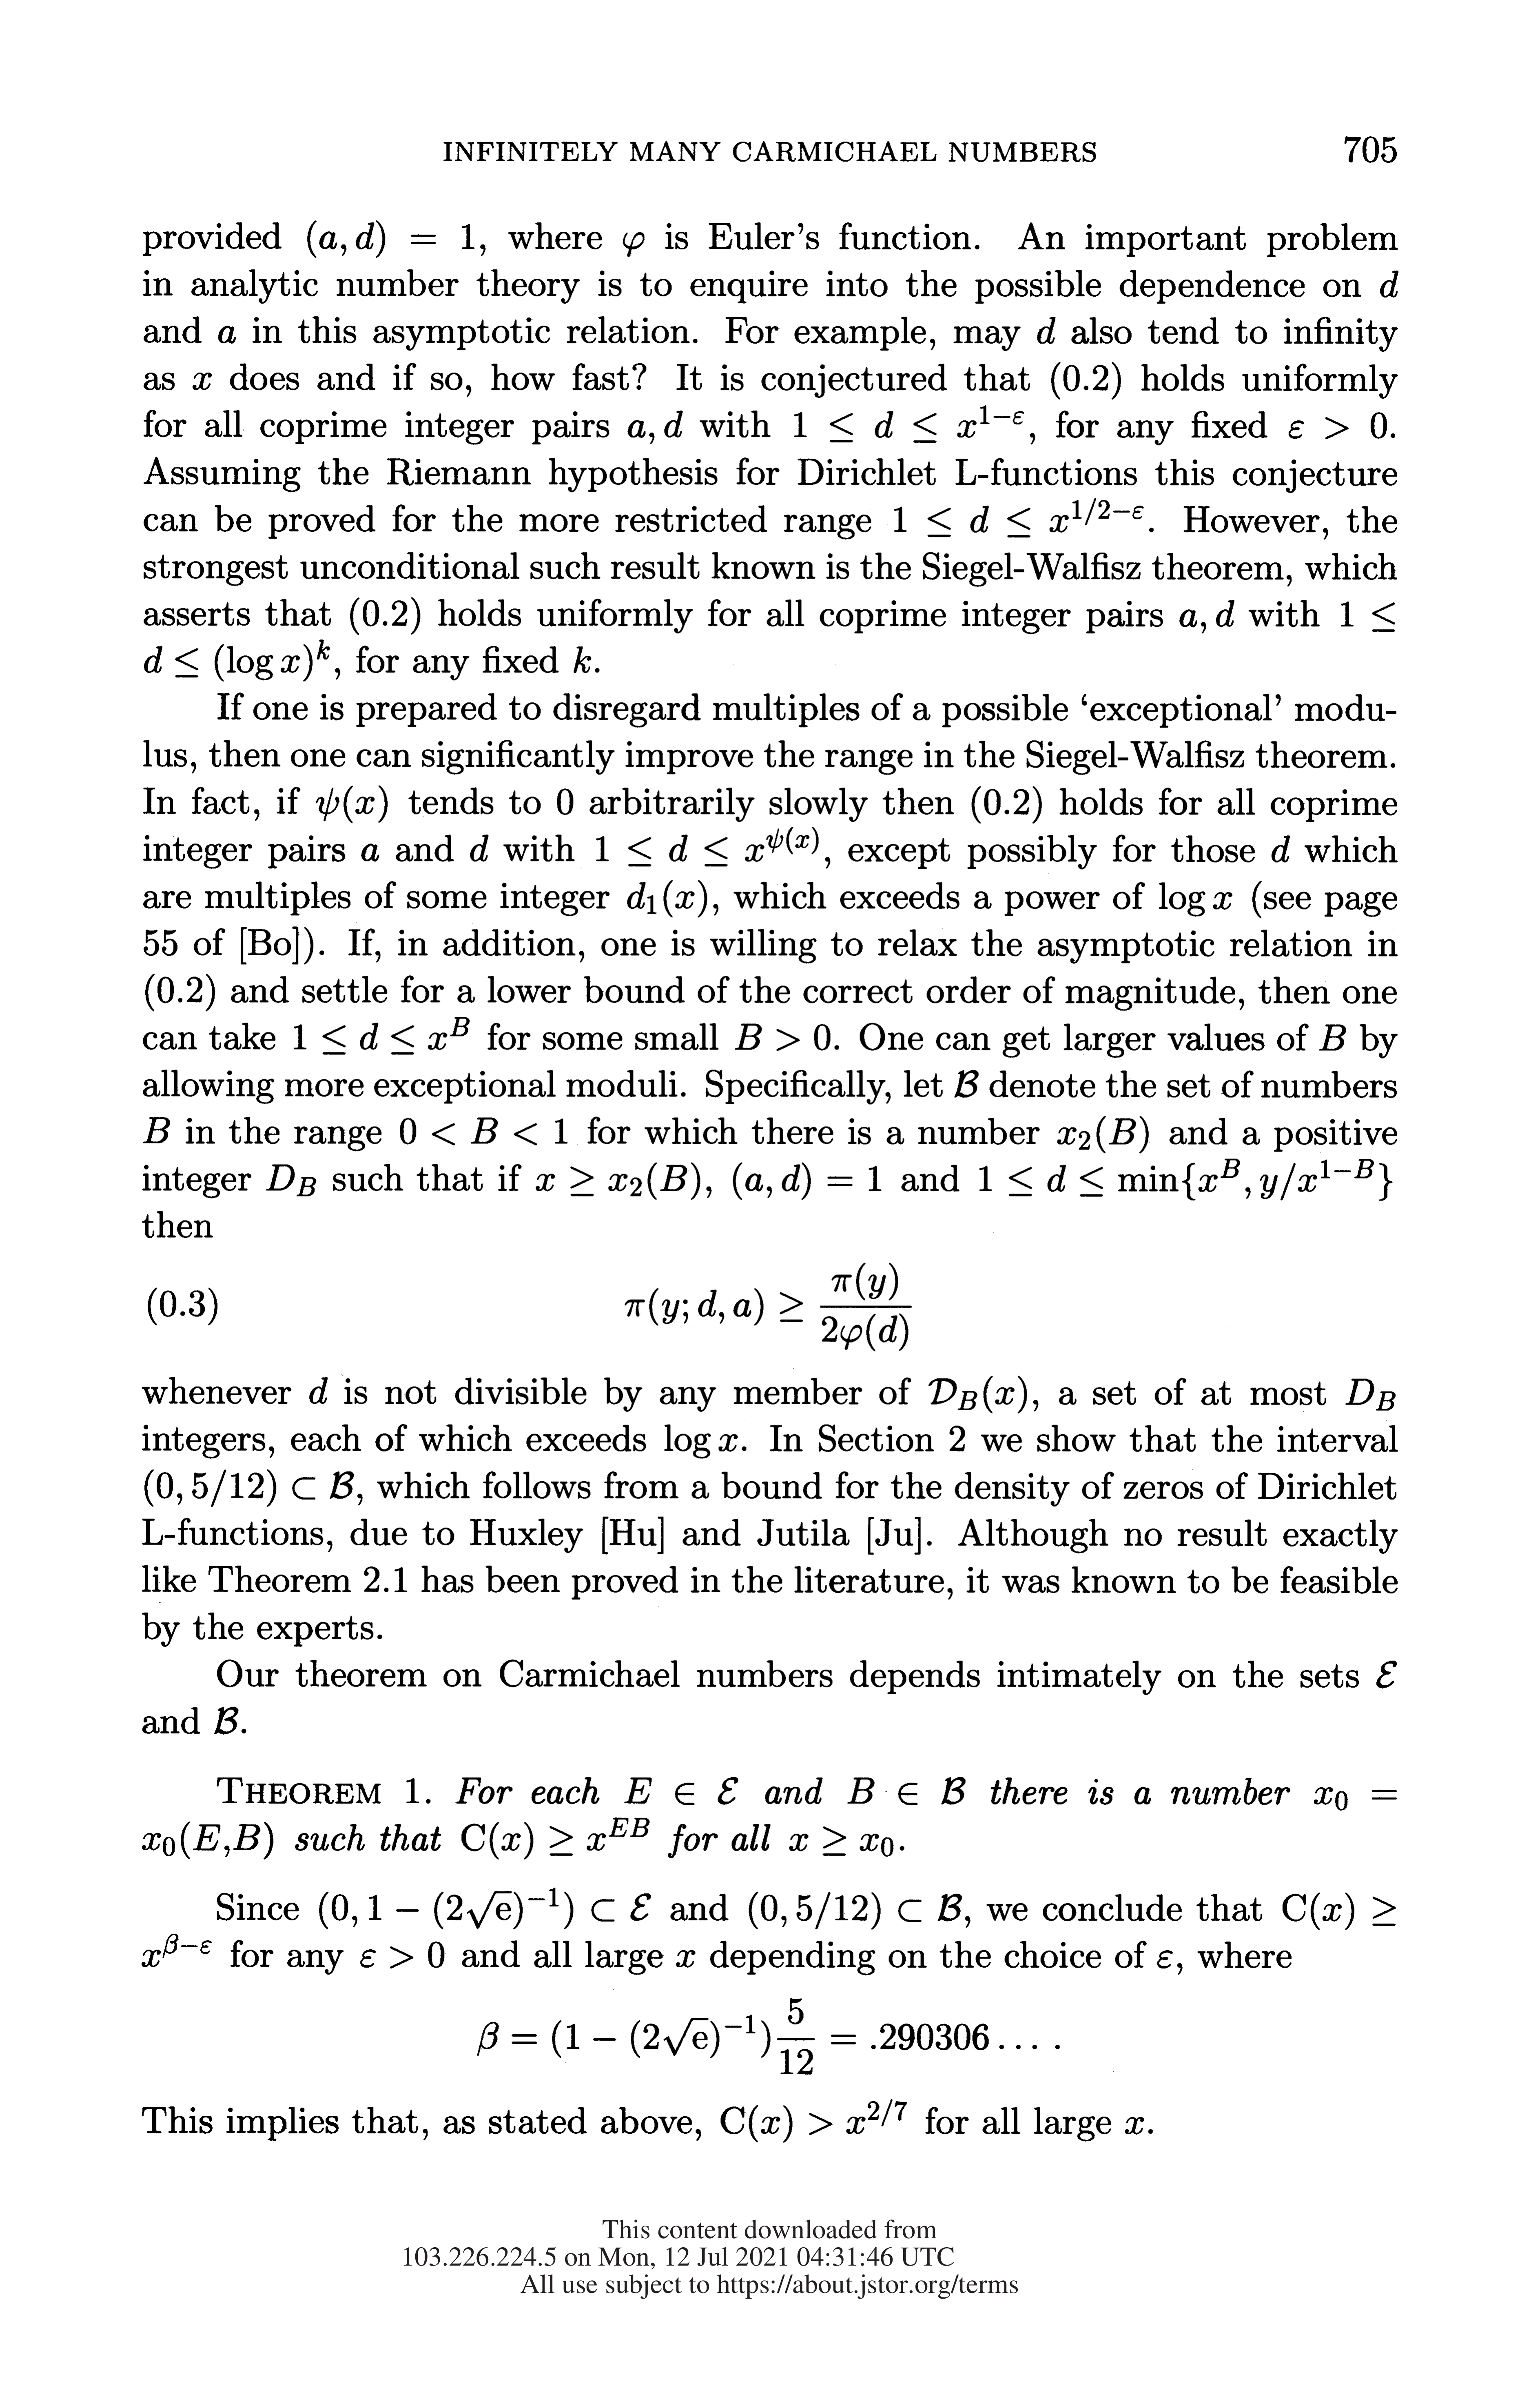maths: (477, 1999, 1037, 2075), (624, 1264, 912, 1351), (979, 1158, 1393, 1200), (319, 1888, 651, 1929), (895, 498, 1144, 537), (596, 827, 819, 865), (795, 405, 1024, 442), (721, 2099, 907, 2143), (144, 639, 330, 681), (749, 1892, 961, 1929), (144, 1469, 354, 1506), (461, 1818, 649, 1859), (293, 1016, 468, 1055), (535, 1162, 710, 1200), (307, 221, 474, 258), (733, 1162, 881, 1200), (142, 1822, 274, 1859), (1282, 1892, 1396, 1931), (400, 1118, 567, 1144), (928, 1376, 1026, 1413), (1058, 1116, 1149, 1153), (847, 1778, 965, 1804), (789, 1827, 893, 1857), (624, 1778, 738, 1804), (626, 879, 707, 916), (316, 785, 388, 823), (1289, 412, 1387, 439), (735, 1023, 830, 1050), (1159, 883, 1231, 916), (665, 1425, 737, 1458), (142, 1934, 210, 1967), (360, 1941, 444, 1967), (1314, 1787, 1396, 1810), (1340, 600, 1394, 632), (1345, 1380, 1394, 1411), (267, 1165, 316, 1195), (144, 1116, 170, 1143), (1179, 609, 1207, 634), (628, 419, 654, 444), (1319, 1025, 1345, 1050), (954, 1071, 979, 1097), (214, 1708, 239, 1734), (1377, 1660, 1396, 1688), (623, 232, 644, 256), (1037, 318, 1056, 344), (1216, 600, 1235, 627), (309, 1378, 328, 1404), (470, 834, 488, 862), (1380, 270, 1398, 297), (665, 411, 682, 437), (574, 646, 591, 672), (556, 788, 574, 814), (1272, 835, 1289, 862), (675, 1950, 695, 1967), (1124, 2117, 1144, 2134), (217, 326, 235, 344), (193, 372, 210, 390), (361, 844, 379, 862), (1158, 1950, 1172, 1967)
